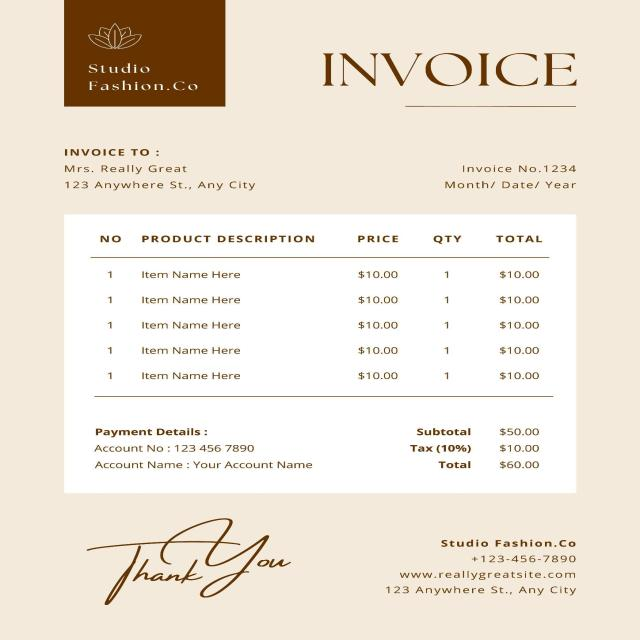paragraph: (39, 412, 346, 488), (88, 507, 307, 612), (47, 0, 245, 114), (364, 520, 606, 608), (318, 38, 594, 106), (40, 129, 278, 195), (388, 408, 561, 486), (417, 130, 599, 195)
table: (39, 203, 593, 405)
